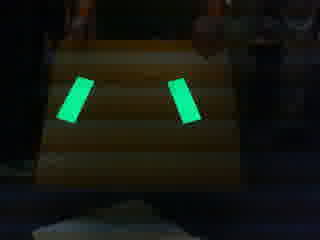target: (53, 71, 201, 124)
